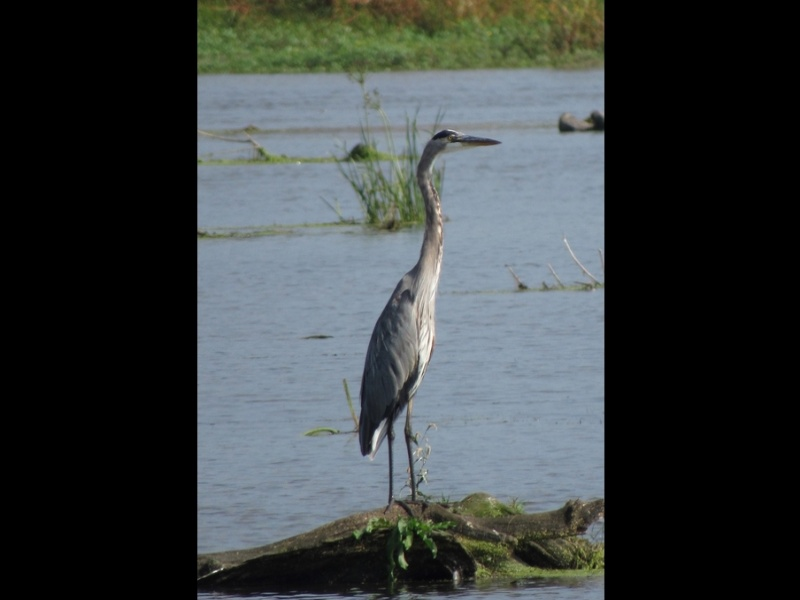heron: (355, 128, 500, 516)
